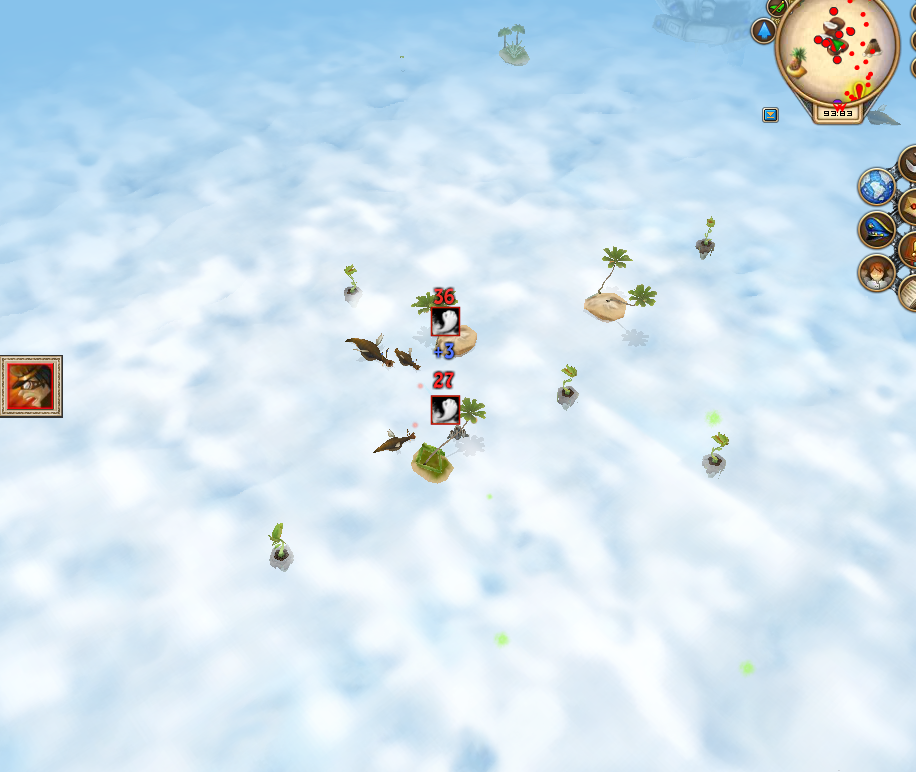palm: (410, 395, 486, 484), (583, 245, 658, 324), (413, 282, 483, 363)
